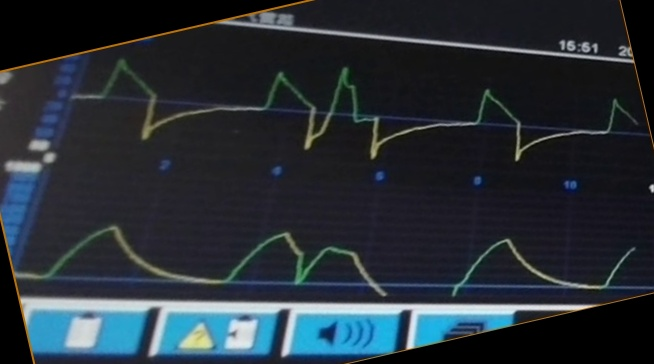Double_Triggering Flow: (97, 59, 603, 161)
Double_Triggering Volume: (46, 219, 632, 296)
